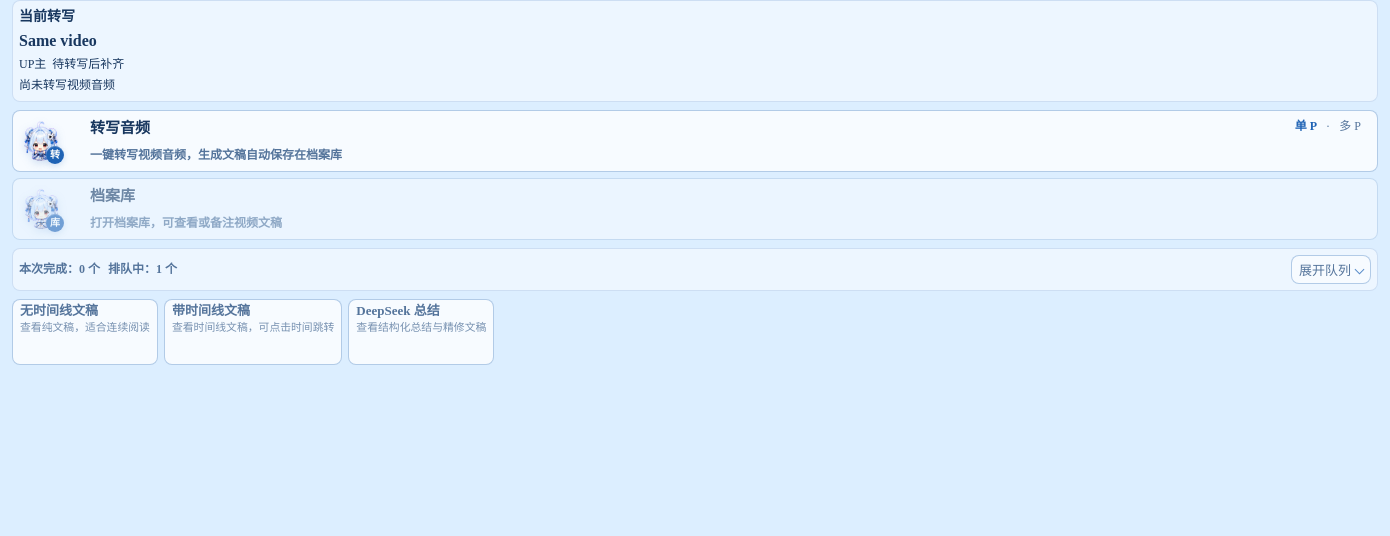
Test: VideoNotesPanel transcription queue › keeps different accounts’ matching BV records as separate historical rows
Click the button with aria-label "展开转写队列" at (1331, 269), box [1291,255,1371,284]
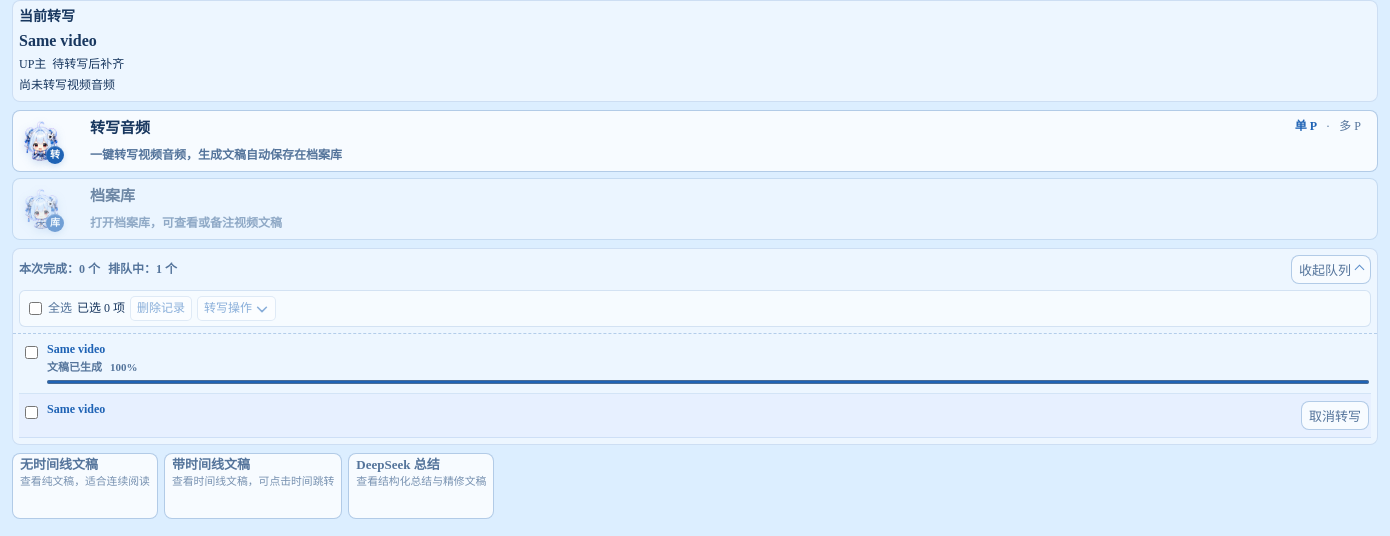
Expected: the button with aria-label "等待转写：Same video" is shown, [47,401,1295,418]
Expected: the button with aria-label "排队已完成：Same video" is shown, [47,341,1369,386]
